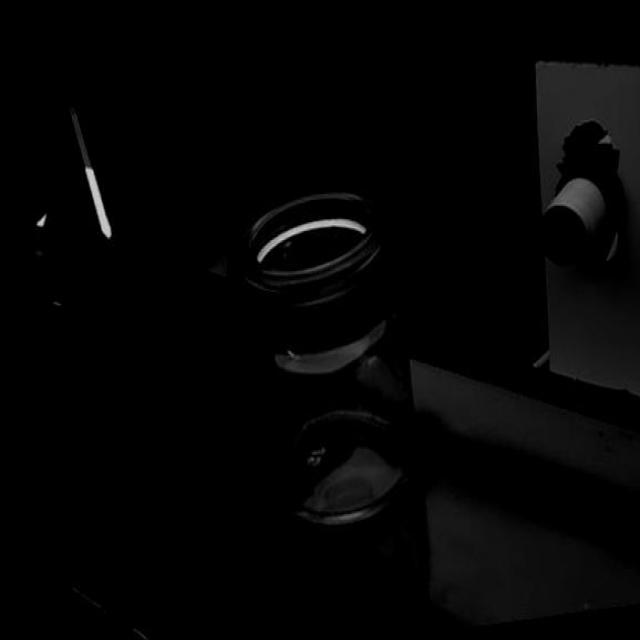defect: (286, 345, 311, 363)
glass: (227, 182, 423, 539)
